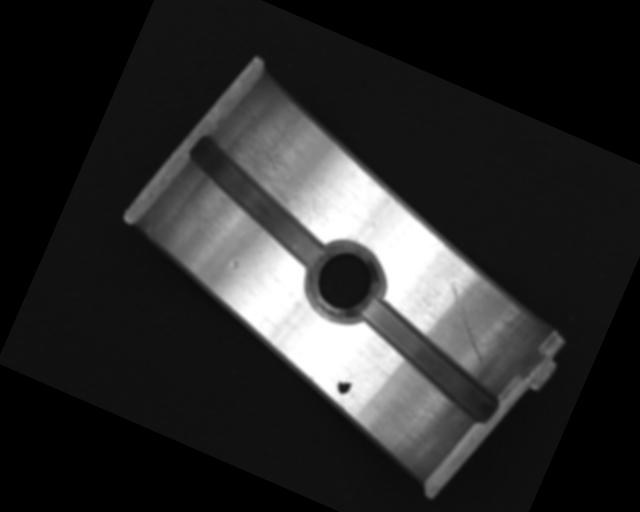blot: (333, 372, 355, 397)
bruise: (228, 258, 241, 271)
gap: (169, 134, 347, 270), (341, 295, 518, 427)
hole: (296, 234, 392, 333)
nick: (426, 280, 509, 365)
scratch: (203, 101, 361, 235)
